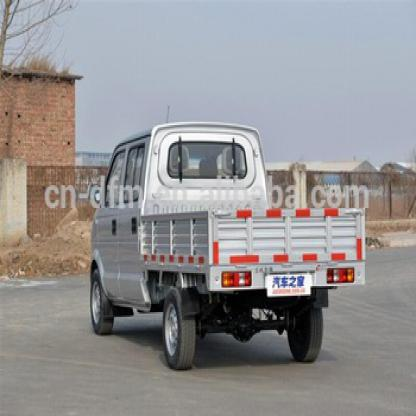normal-truck: (84, 128, 372, 362)
